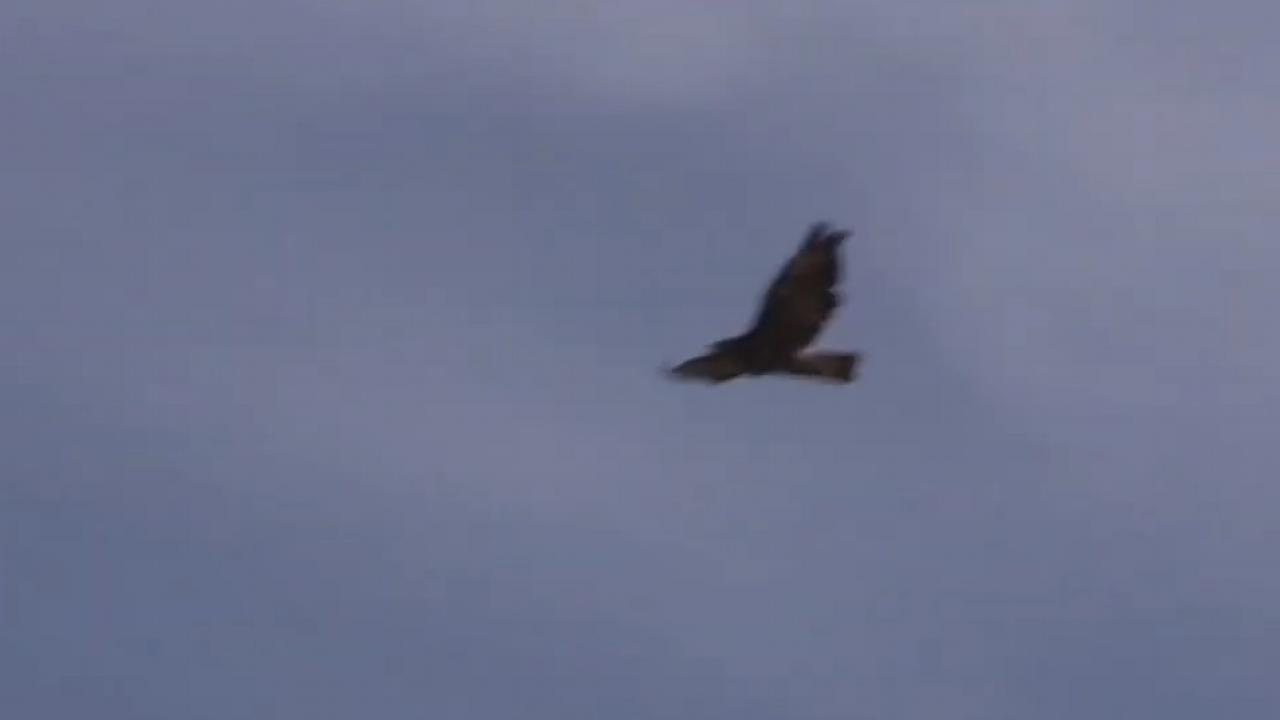Bird: (652, 206, 874, 410)
